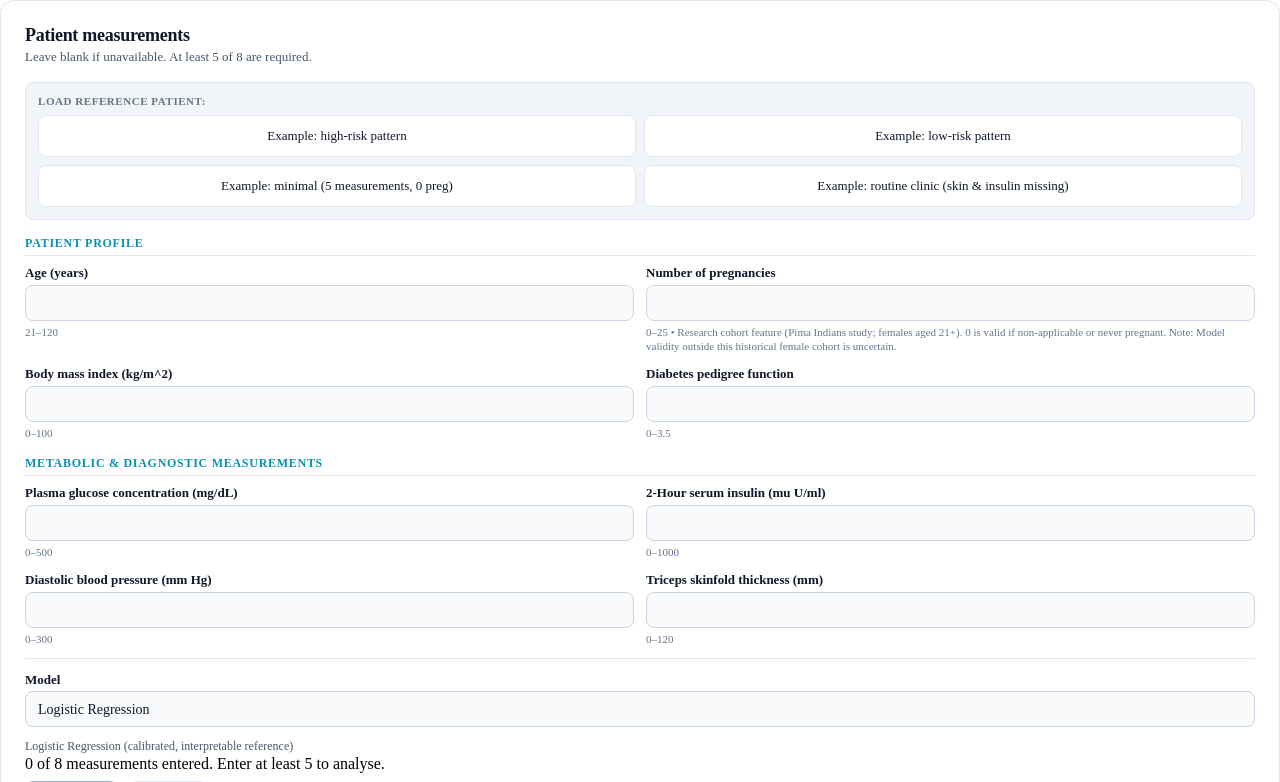
Test: PatientForm › counts measurements as they are entered and enables submit at the minimum
Click the button "Example: minimal (5 measurements, 0 preg)" at (337, 186), box [38,165,636,207]
(page scrolled)
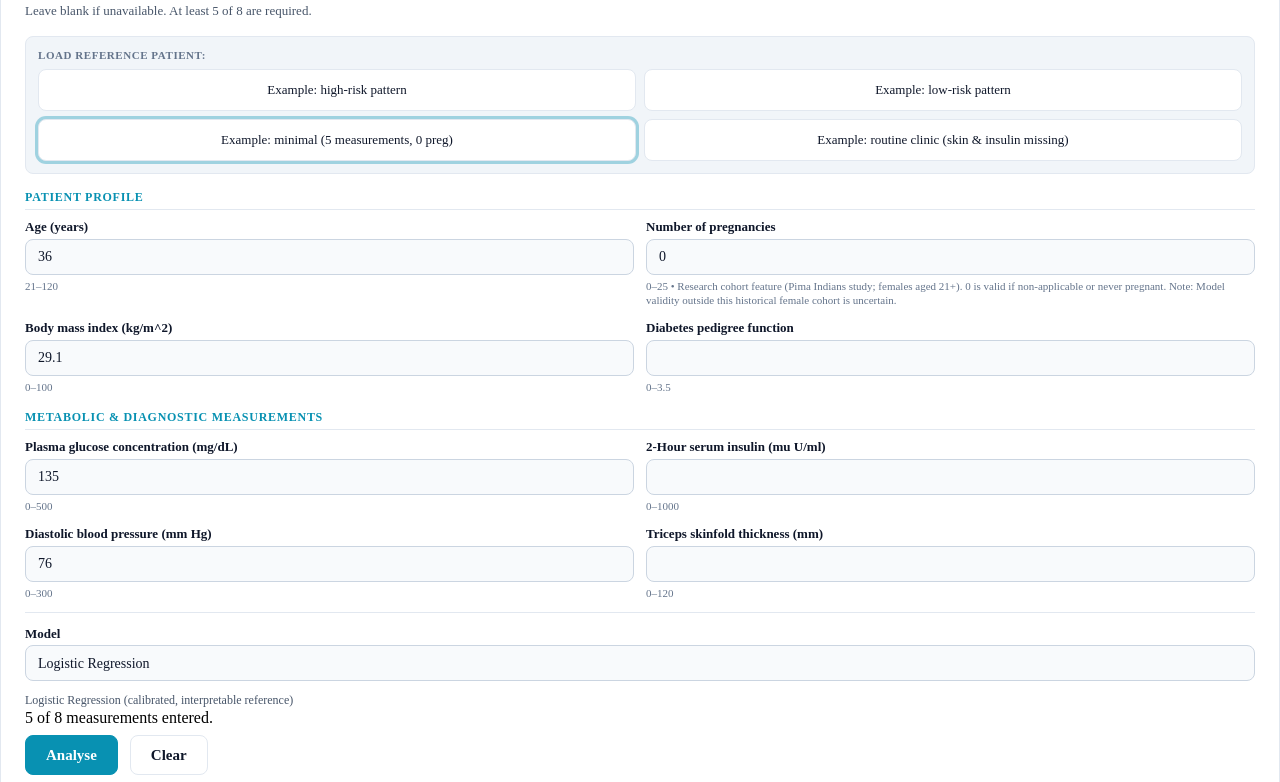
Check: the message reads "5 of 8 measurements entered.", box [25,709,213,726]
Check: the button "Analyse" is enabled, box [25,735,118,775]
